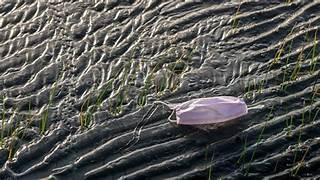Mask: (127, 96, 247, 146), (166, 96, 247, 124)
